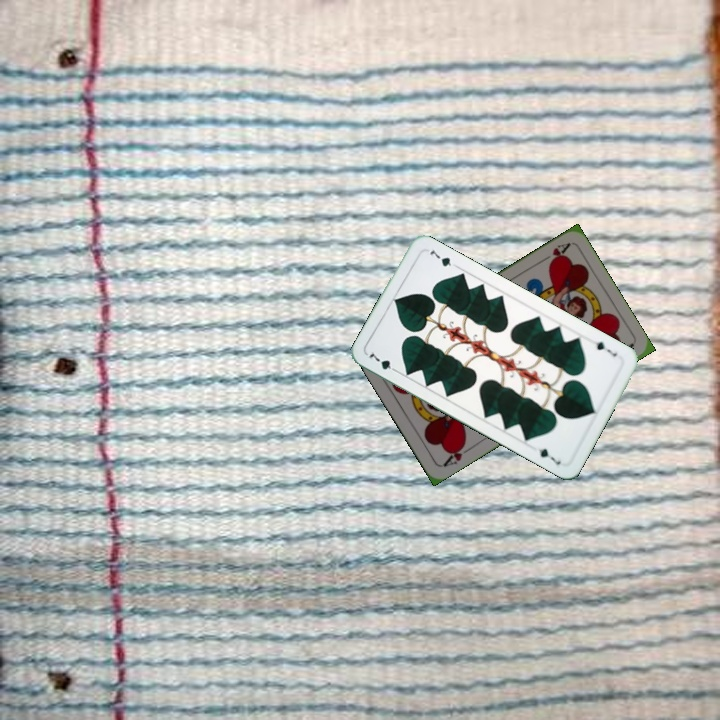G7: (365, 347, 401, 375), (592, 337, 619, 359)
HA: (439, 439, 475, 469), (535, 239, 572, 268)
